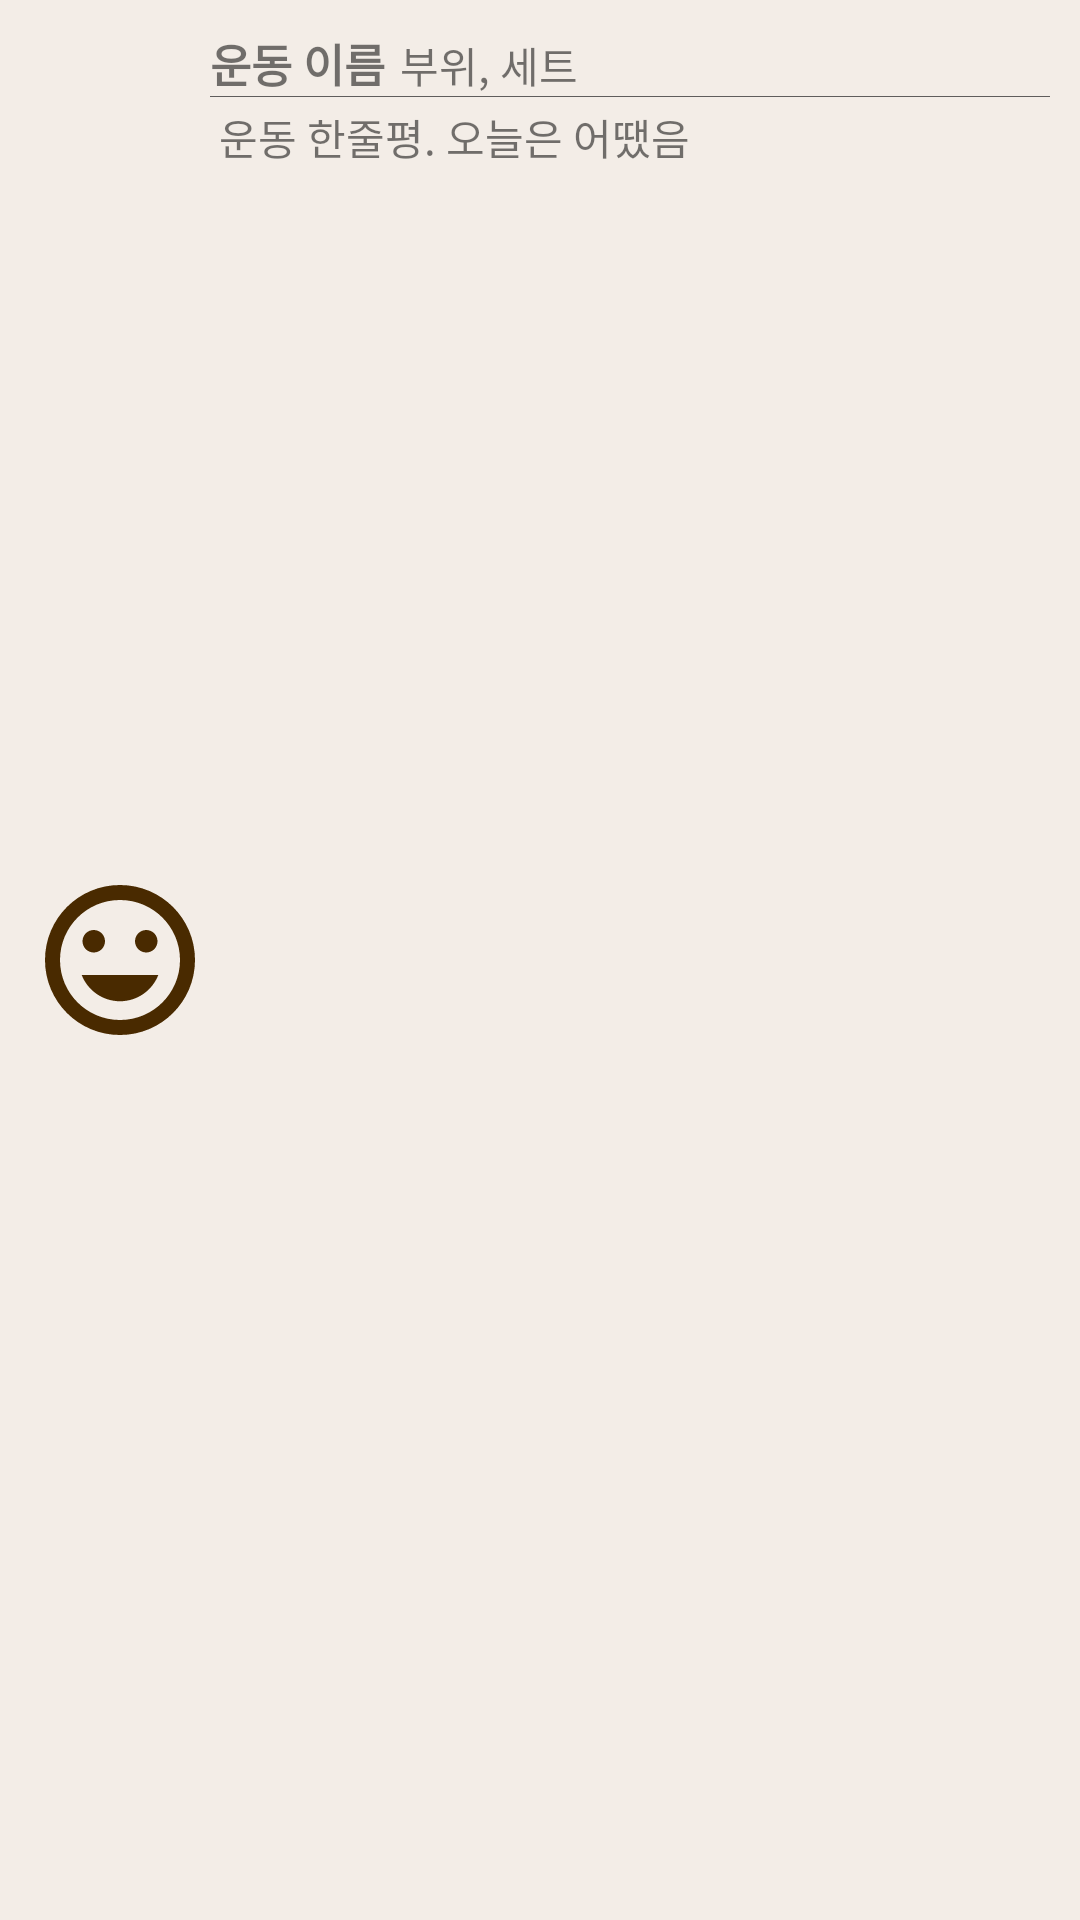

Named icons in this screenshot (1080 x 1920) and their centers, (x,y):
mood: (120,960)
